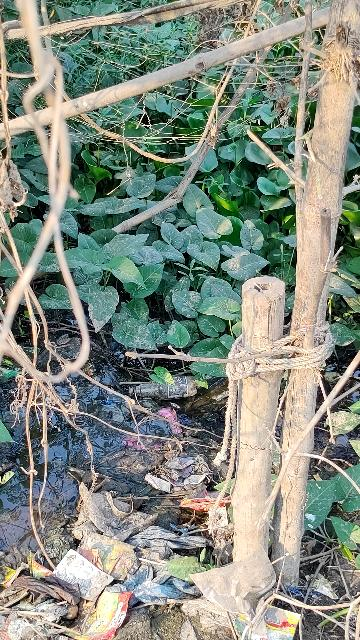bottle: (119, 367, 205, 403)
